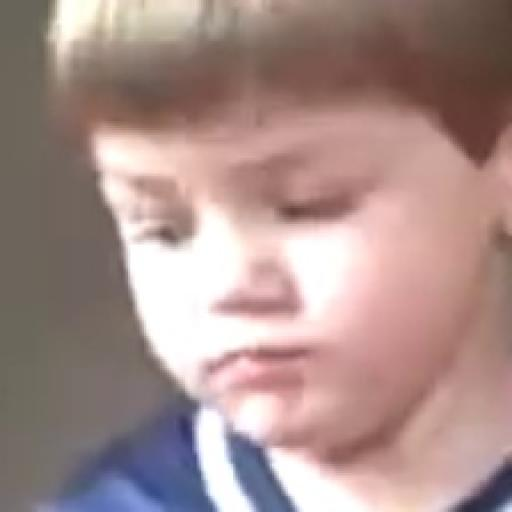Autism: (70, 2, 468, 480)
